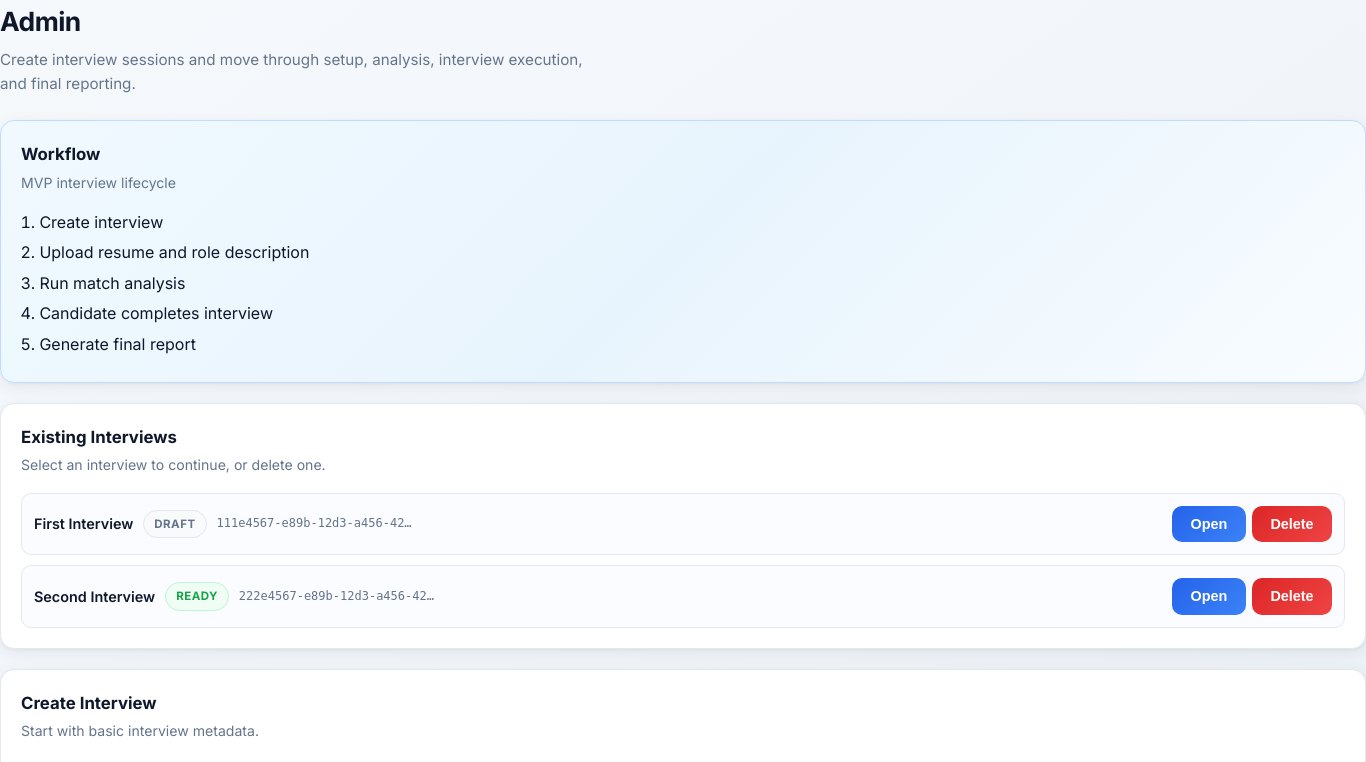
Test case: AdminPage › opens confirm dialog on delete click
Expected: the text "First Interview" is shown, [34,512,133,535]
Click the button "Delete" in the row of "111e4567-e89b-12d3-a456-426614174001".
click(1292, 524)  # box [1252,506,1332,542]
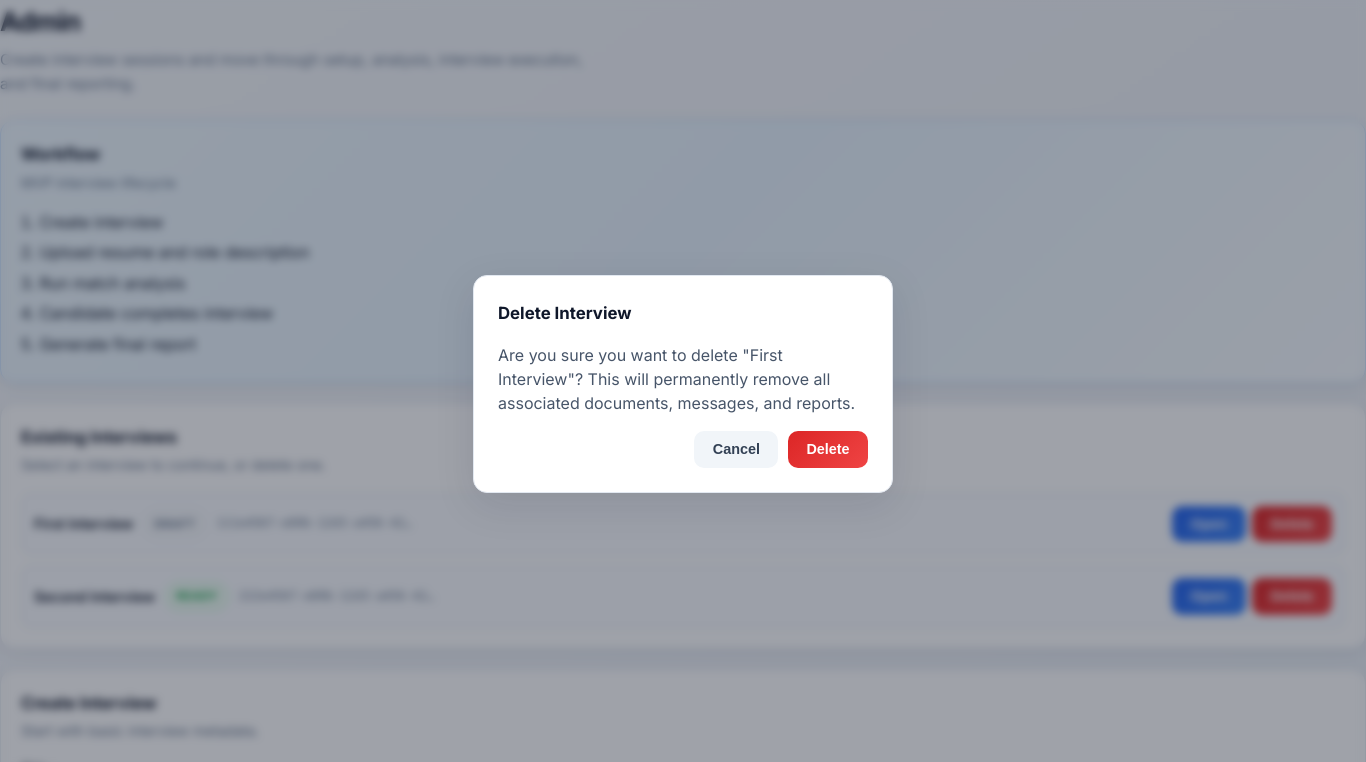
Now the dialog is shown, box [473,275,893,493]
Now the heading "Delete Interview" is shown, box [498,303,632,323]
